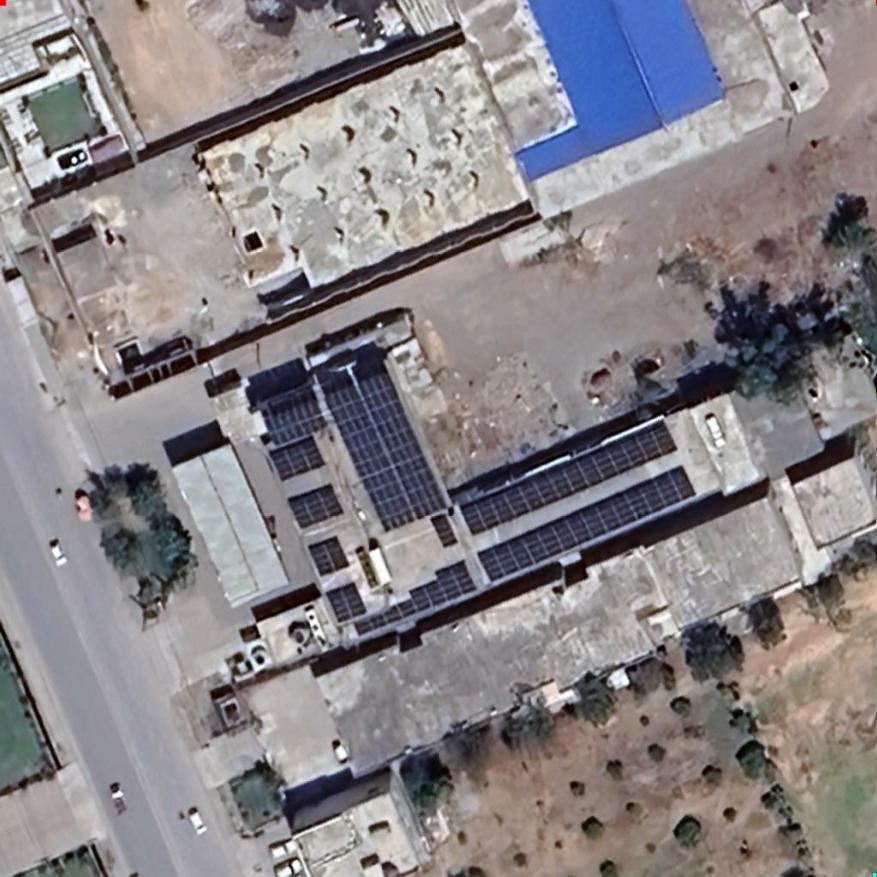Solarpanel: (242, 350, 488, 646), (452, 409, 685, 544), (472, 459, 702, 592)
